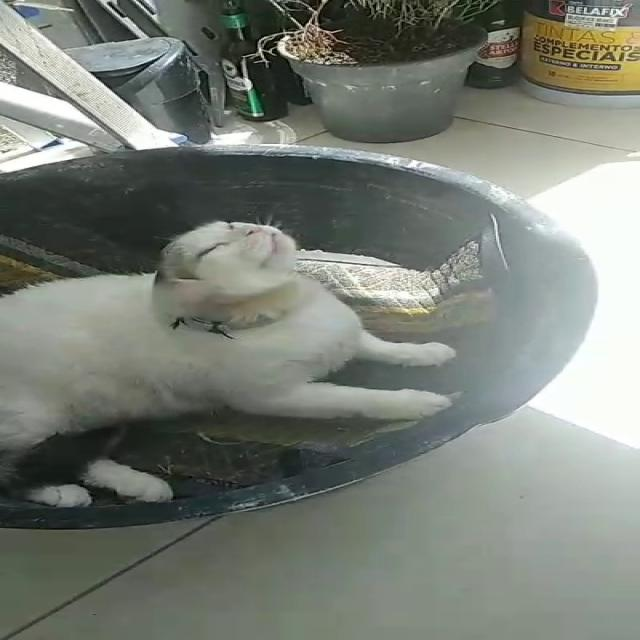Simba: (0, 207, 467, 502)
